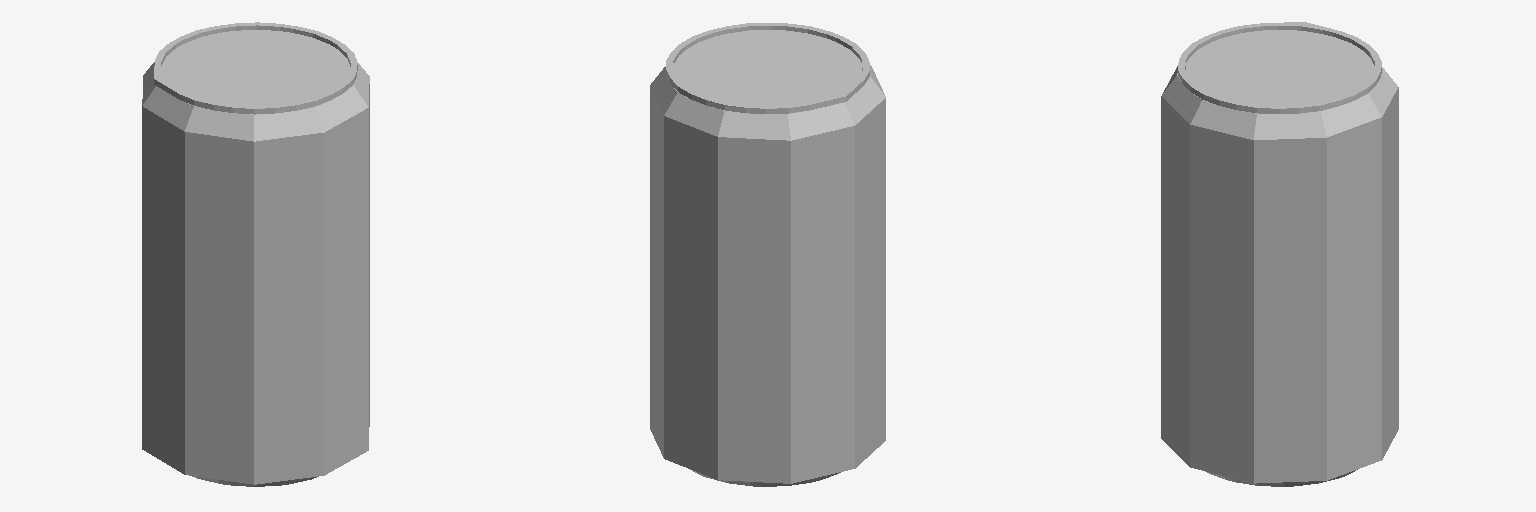
Rendered from Sprint.obj.
3 renders of one model, left to right at view 1: azimuth 30°, elevation 25°; view 2: azimuth 150°, elevation 25°; view 3: azimuth 270°, elevation 25°, orthographic.
Visible parts, largest first — view 1: Sprint; view 2: Sprint; view 3: Sprint.
Boxes of the visible parts, x1=… form: Sprint: x1=142, y1=22, x2=369, y2=486; Sprint: x1=650, y1=23, x2=885, y2=486; Sprint: x1=1161, y1=22, x2=1398, y2=486.
Bounding box in the file's own units: 0.096 × 0.1737 × 0.0981.